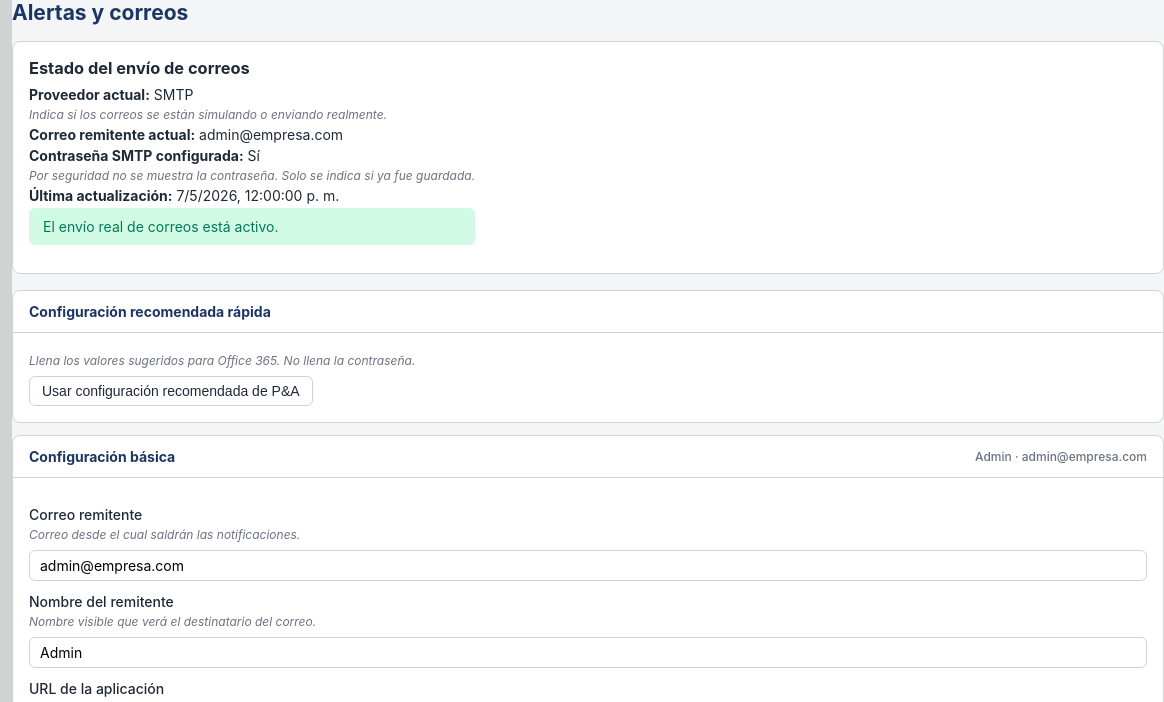
AlertasCorreosPage › el botón de configuración recomendada de P&A llena los valores correctos sin contraseña
Expected: the heading "Alertas y correos" is shown, [12,0,188,25]
Step 1. Click the button "Usar configuración recomendada de P&A" → click(171, 391), box [29,376,313,406]
(page scrolled)
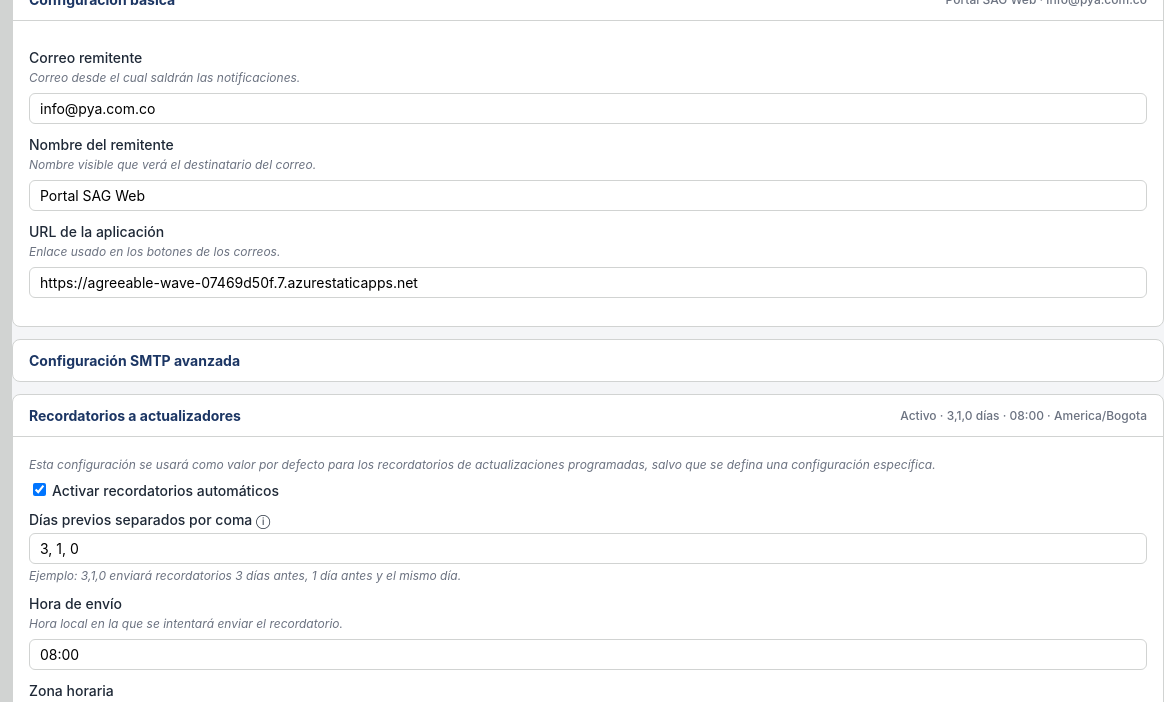
Now the field showing "Portal SAG Web" below "Nombre del remitente" is shown, box [29,180,1147,211]
Now the field showing "https://agreeable-wave-07469d50f.7.azurestaticapps.net" below "URL de la aplicación" is shown, box [29,267,1147,298]
Step 2. Click the heading "Configuración SMTP avanzada" → click(134, 360), box [29,352,240,369]
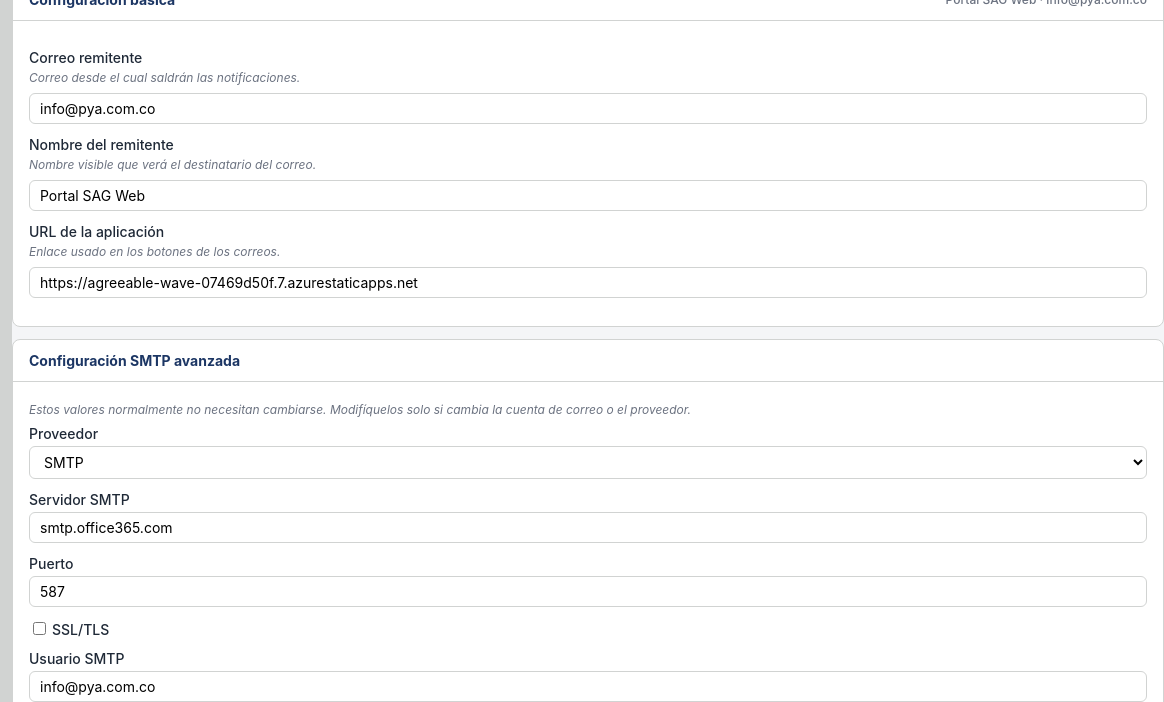
Now the field showing "smtp.office365.com" below "Servidor SMTP" is shown, box [29,512,1147,543]
Now the number field showing "587" is shown, box [29,576,1147,607]
